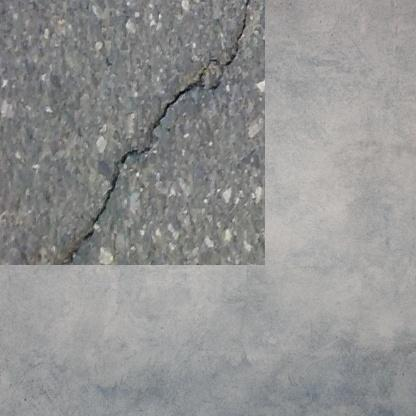Cracks: (53, 0, 237, 245)
